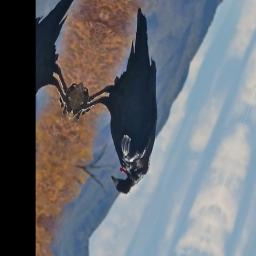Crow: (54, 0, 198, 203)
